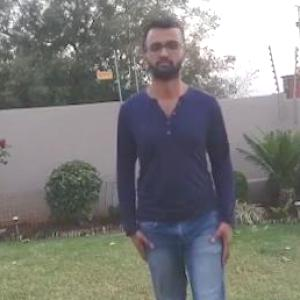follow: (126, 39, 231, 299)
